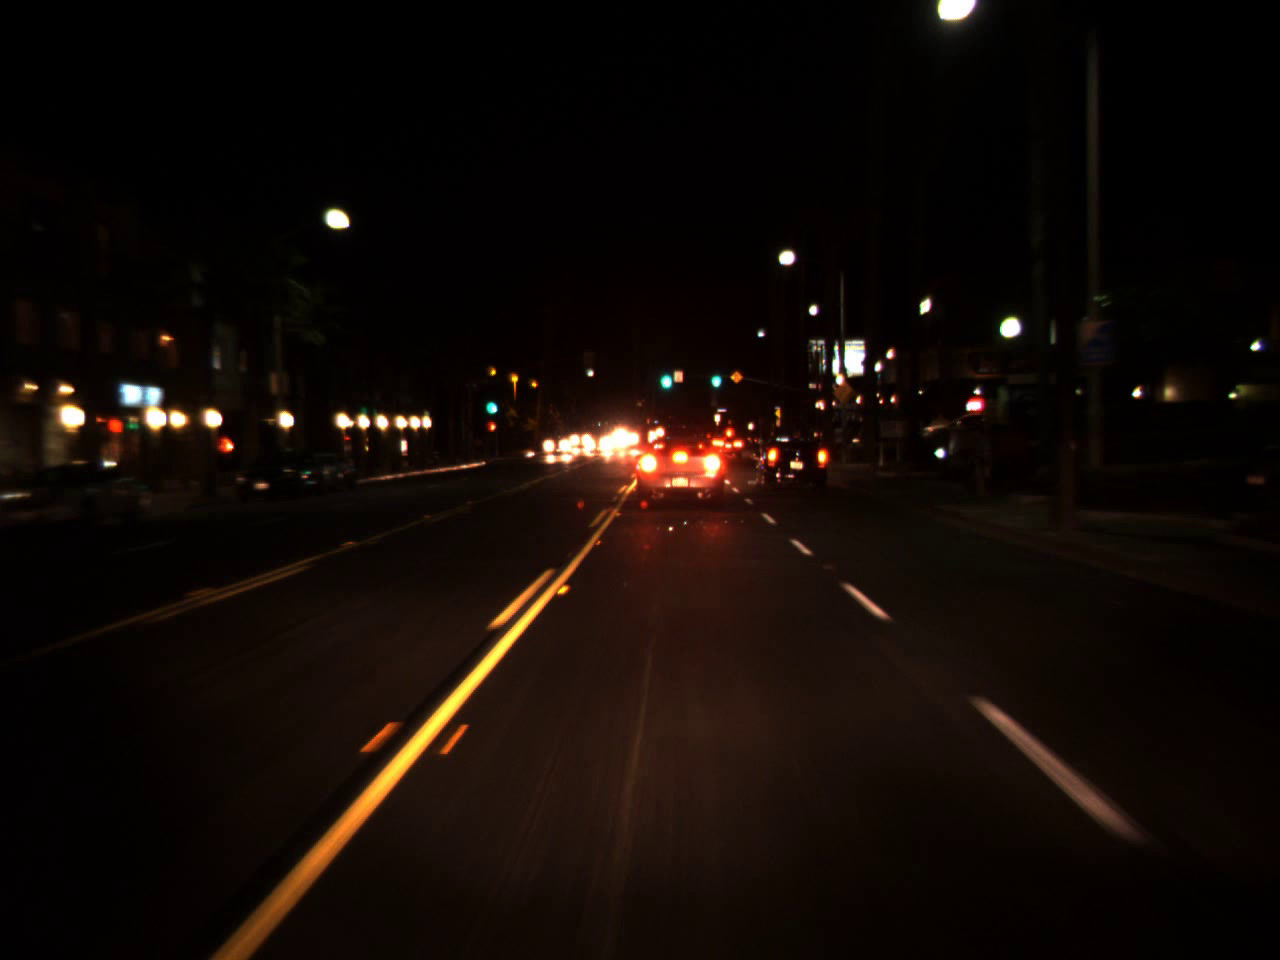go: (657, 358, 673, 394), (707, 363, 723, 390), (484, 388, 496, 418)
